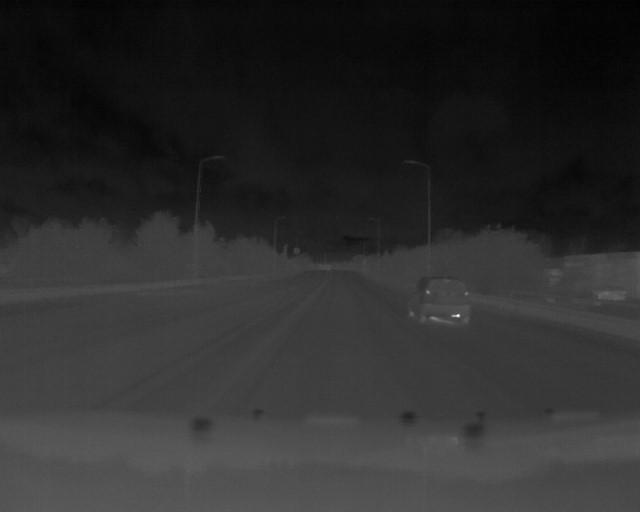car: (406, 273, 476, 329)
